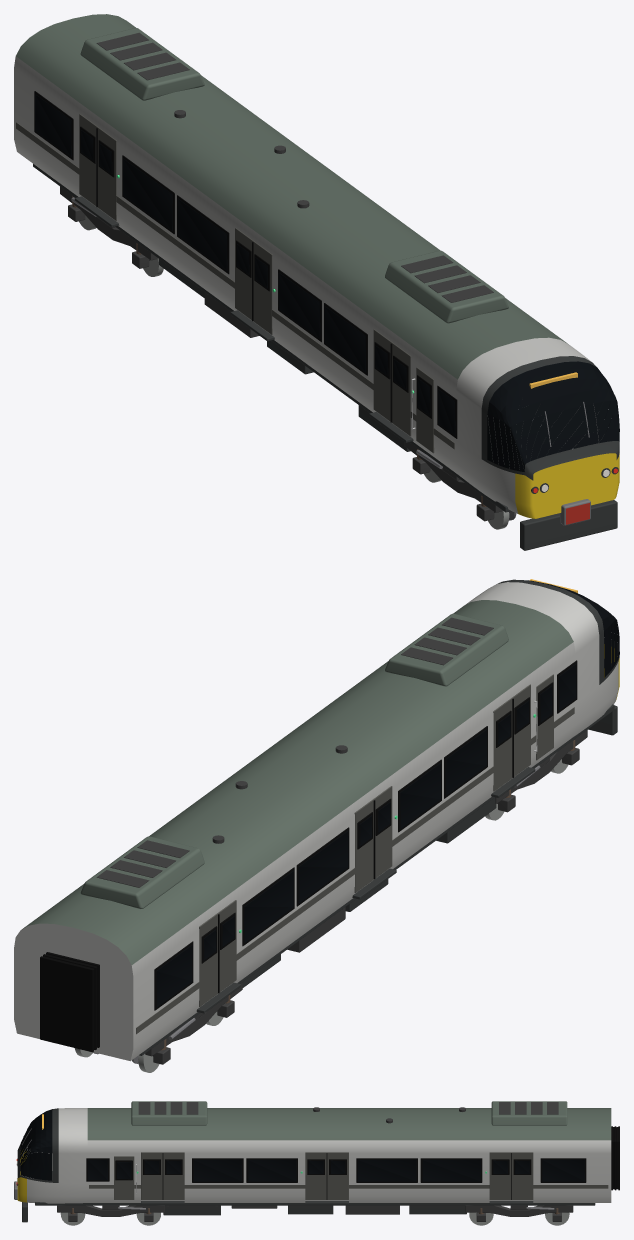
Rendered from rail.train.emu_cab.glb.
3 views of the same model, one above another, from view 1: azimuth 30°, elevation 25°; view 2: azimuth 150°, elevation 25°; view 3: azimuth 270°, elevation 25° (orthographic). The views are drawn at different scales.
Visible parts, largest first — view 1: main__paint_666, main__paint_ccc, main__glass_dark, main__paint_555, main__paint_333, main__steel_444, main__rubber, main__paint_ec2, main__galv_999; view 2: main__paint_666, main__paint_ccc, main__glass_dark, main__rubber, main__paint_555, main__steel_444, main__paint_333, main__galv_999; view 3: main__paint_ccc, main__paint_666, main__glass_dark, main__paint_555, main__steel_444, main__paint_333, main__rubber, main__galv_999, main__galv_777, main__paint_ec2.
Part boxes in pixels (box(x1,y1,x2,y2)): main__paint_666: box(16, 14, 567, 379); main__paint_ccc: box(14, 56, 601, 513); main__glass_dark: box(35, 94, 619, 472); main__paint_555: box(16, 114, 573, 453); main__paint_333: box(33, 164, 619, 550); main__steel_444: box(60, 32, 502, 521); main__rubber: box(34, 91, 457, 438); main__paint_ec2: box(515, 453, 619, 518); main__galv_999: box(79, 215, 509, 529); main__paint_666: box(22, 600, 573, 964); main__paint_ccc: box(14, 582, 618, 1061); main__glass_dark: box(156, 580, 619, 1007); main__rubber: box(40, 660, 577, 1052); main__paint_555: box(136, 674, 574, 1034); main__steel_444: box(96, 617, 587, 1064); main__paint_333: box(139, 579, 619, 1055); main__galv_999: box(74, 759, 568, 1072); main__paint_ccc: box(27, 1108, 611, 1203); main__paint_666: box(87, 1101, 611, 1140); main__glass_dark: box(20, 1109, 584, 1181); main__paint_555: box(89, 1152, 608, 1199); main__steel_444: box(57, 1102, 573, 1221); main__paint_333: box(17, 1108, 595, 1222); main__rubber: box(86, 1126, 619, 1199); main__galv_999: box(60, 1212, 569, 1225); main__galv_777: box(14, 1128, 554, 1210); main__paint_ec2: box(17, 1151, 26, 1202).
Size of the model in its own units: 3.04 by 4.07 by 20.77.
